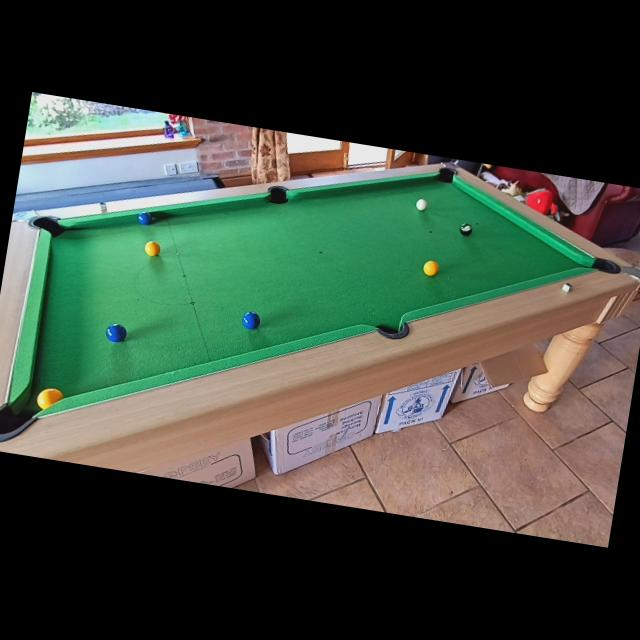Ball: (35, 386, 65, 414), (104, 322, 128, 343), (240, 310, 262, 330), (144, 240, 162, 258), (423, 260, 440, 278), (136, 210, 152, 227), (458, 222, 474, 237), (415, 198, 428, 212)
